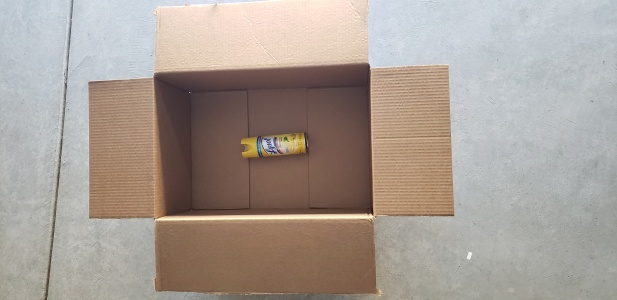innerbox: (154, 72, 374, 217)
outerbox: (91, 1, 453, 294)
product: (242, 134, 308, 154)
